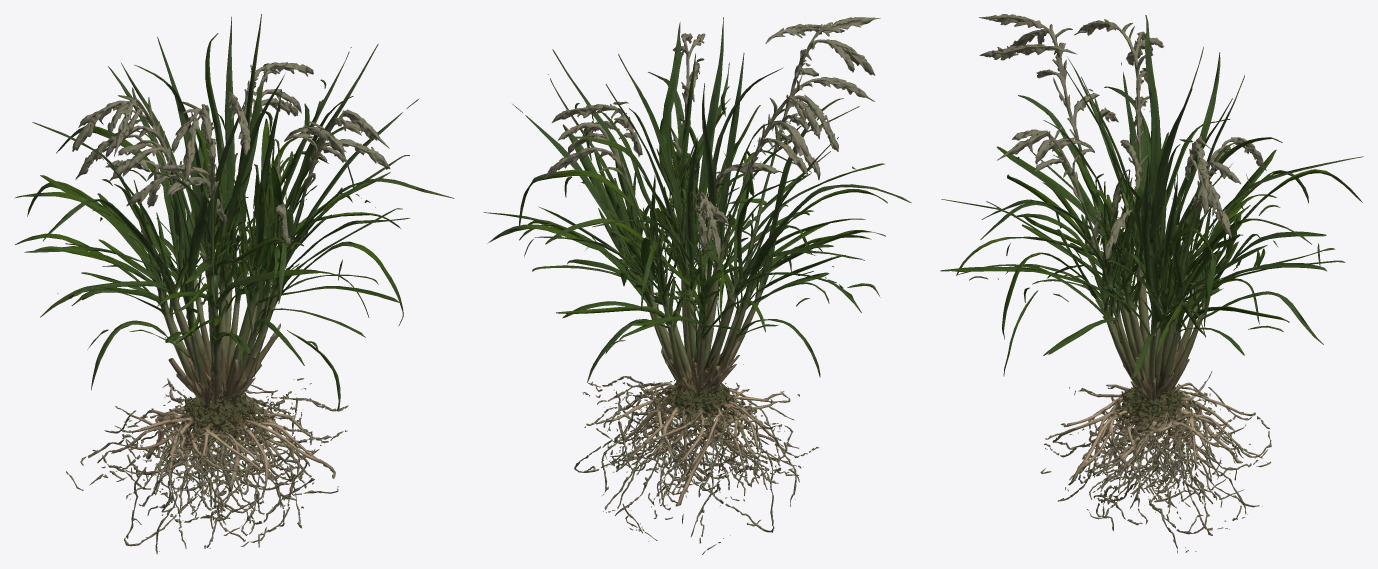
The model's file is limoncillo.glb.
The picture shows the model from 3 angles, left to right: view 1: azimuth 30°, elevation 25°; view 2: azimuth 150°, elevation 25°; view 3: azimuth 270°, elevation 25°; orthographic projection. The views are drawn at different scales.
Parts seen in each view (by area): view 1: geometry_0; view 2: geometry_0; view 3: geometry_0.
Part boxes in pixels (x1,y1,x2,y2): geometry_0: [14, 14, 454, 554]; geometry_0: [483, 17, 911, 554]; geometry_0: [940, 14, 1363, 553].
Size of the model in its own units: 0.8123 by 0.9955 by 0.7871.
1 material, 1 textured.
